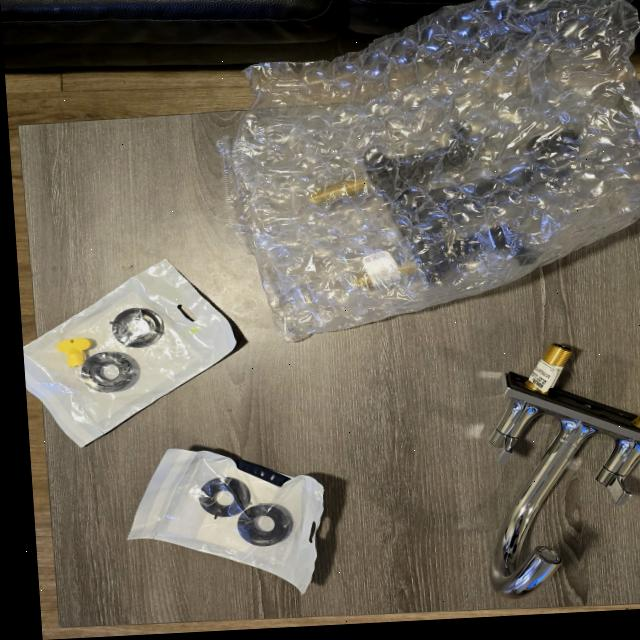10: (490, 344, 640, 598)
12: (23, 260, 236, 447)
13: (128, 449, 324, 594)
9c: (221, 0, 640, 342)
